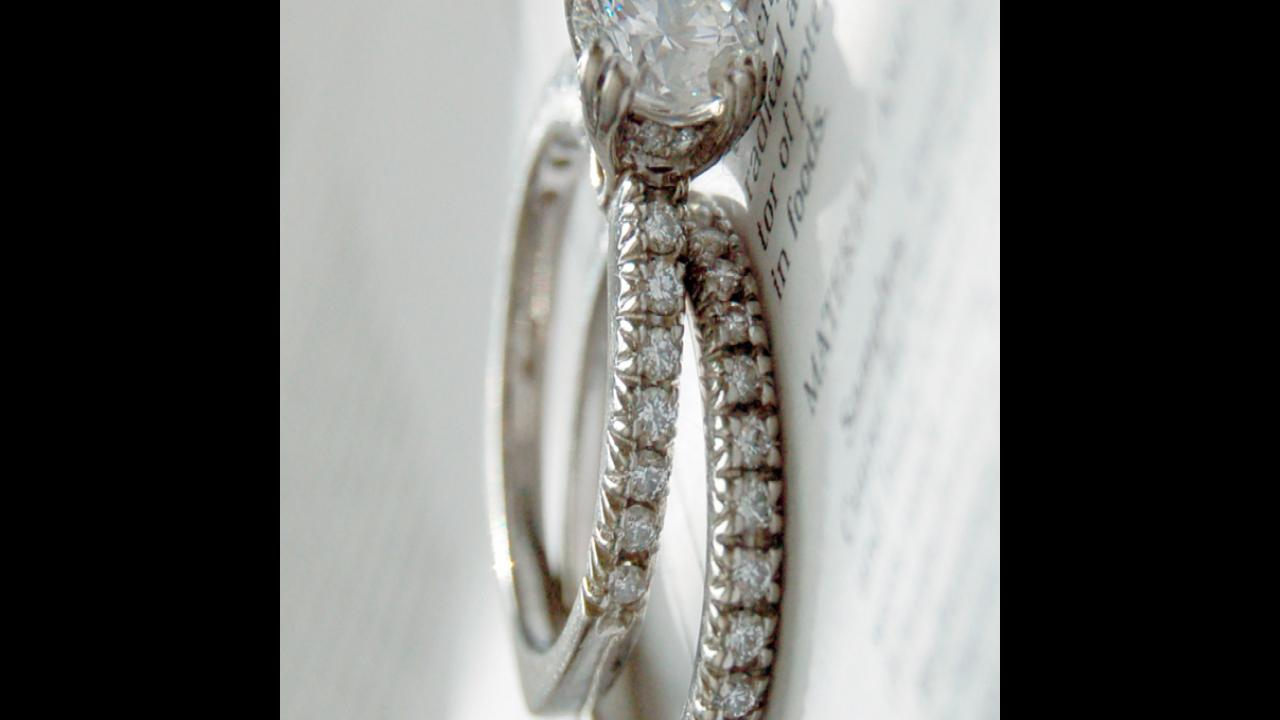ring: (476, 0, 770, 720), (553, 193, 789, 720)
